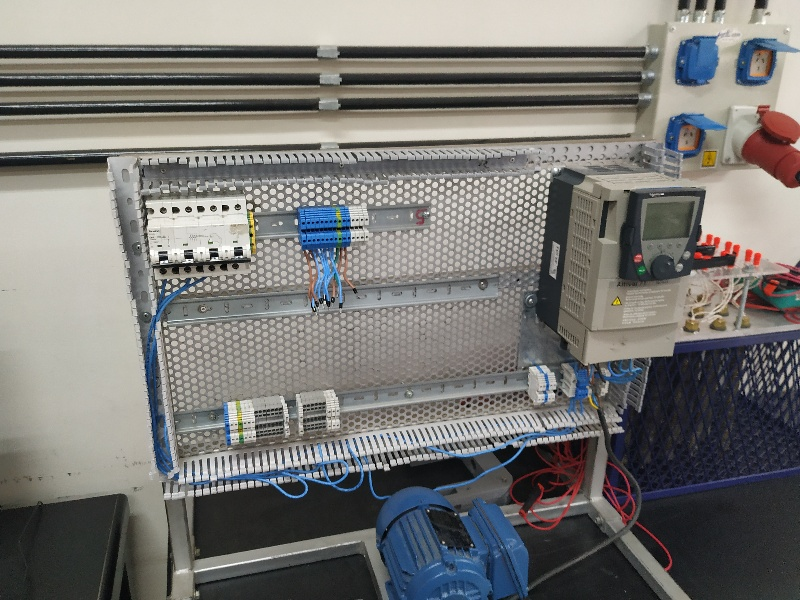Tablero 0: (131, 152, 704, 484)
